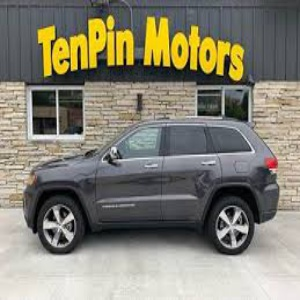door_scratch: (99, 172, 192, 215)
